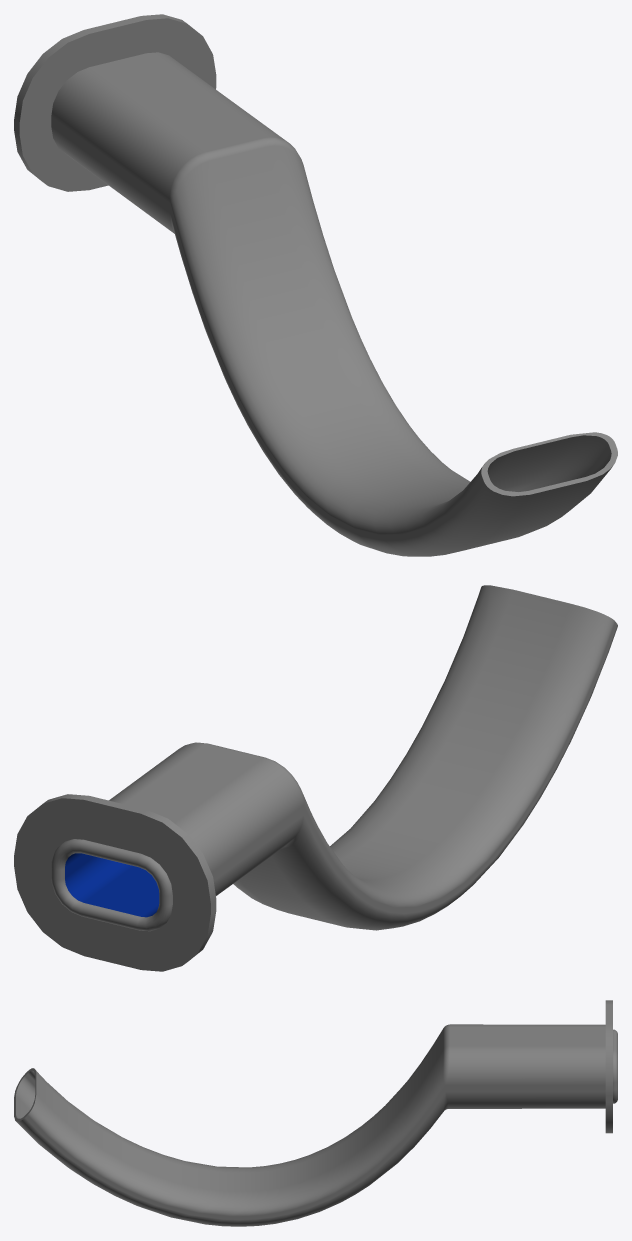
Rendered from canula azul.fbx.
The picture shows the model from 3 angles, top to bottom: view 1: azimuth 30°, elevation 25°; view 2: azimuth 150°, elevation 25°; view 3: azimuth 270°, elevation 25°; orthographic projection. The views are drawn at different scales.
Parts seen in each view (by area): view 1: Cortar-Extruir1; view 2: Cortar-Extruir1; view 3: Cortar-Extruir1.
Part boxes in pixels (x1,y1,x2,y2): Cortar-Extruir1: [14, 14, 617, 556]; Cortar-Extruir1: [14, 585, 617, 971]; Cortar-Extruir1: [14, 1000, 617, 1226].
Bounding box in the file's own units: 2.44 × 3.51 × 9.66.
